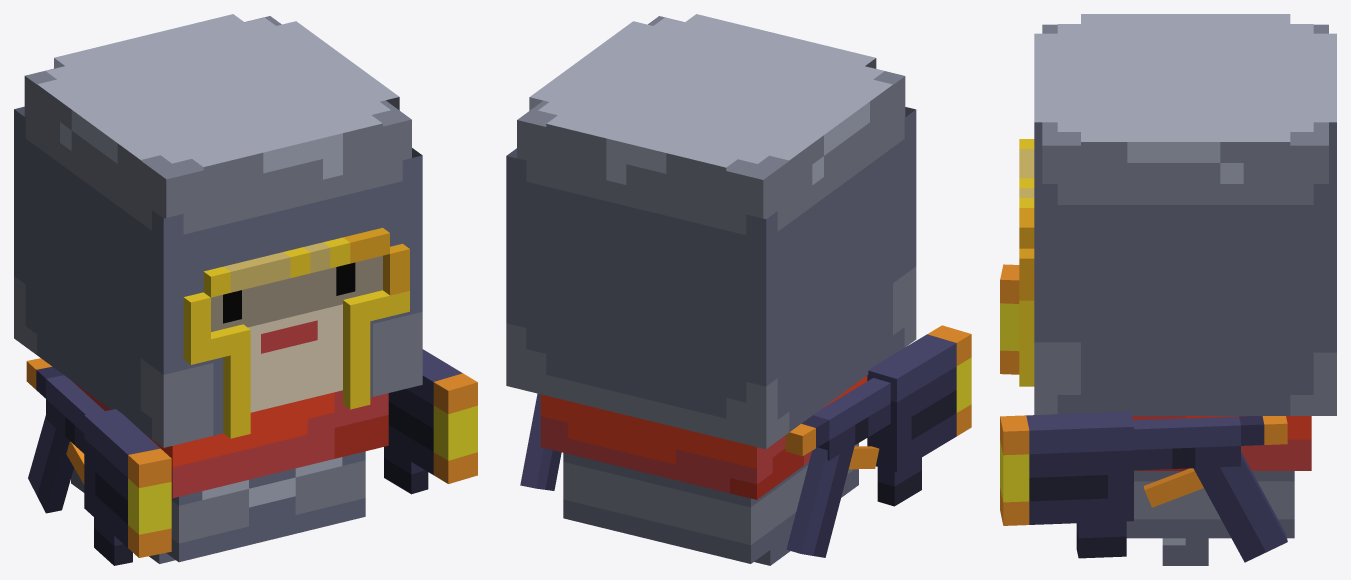
File: knightPlayer.glb
3 views of the same model, side by side, from view 1: azimuth 30°, elevation 25°; view 2: azimuth 150°, elevation 25°; view 3: azimuth 270°, elevation 25° (orthographic).
Parts seen in each view (by area): view 1: knight; view 2: knight; view 3: knight.
Boxes of the visible parts, left/top/right/bottom form: knight: left=14, top=14, right=477, bottom=565; knight: left=506, top=14, right=971, bottom=565; knight: left=1000, top=14, right=1336, bottom=565.
Bounding box in the file's own units: 2.69 × 3.4 × 2.29.
